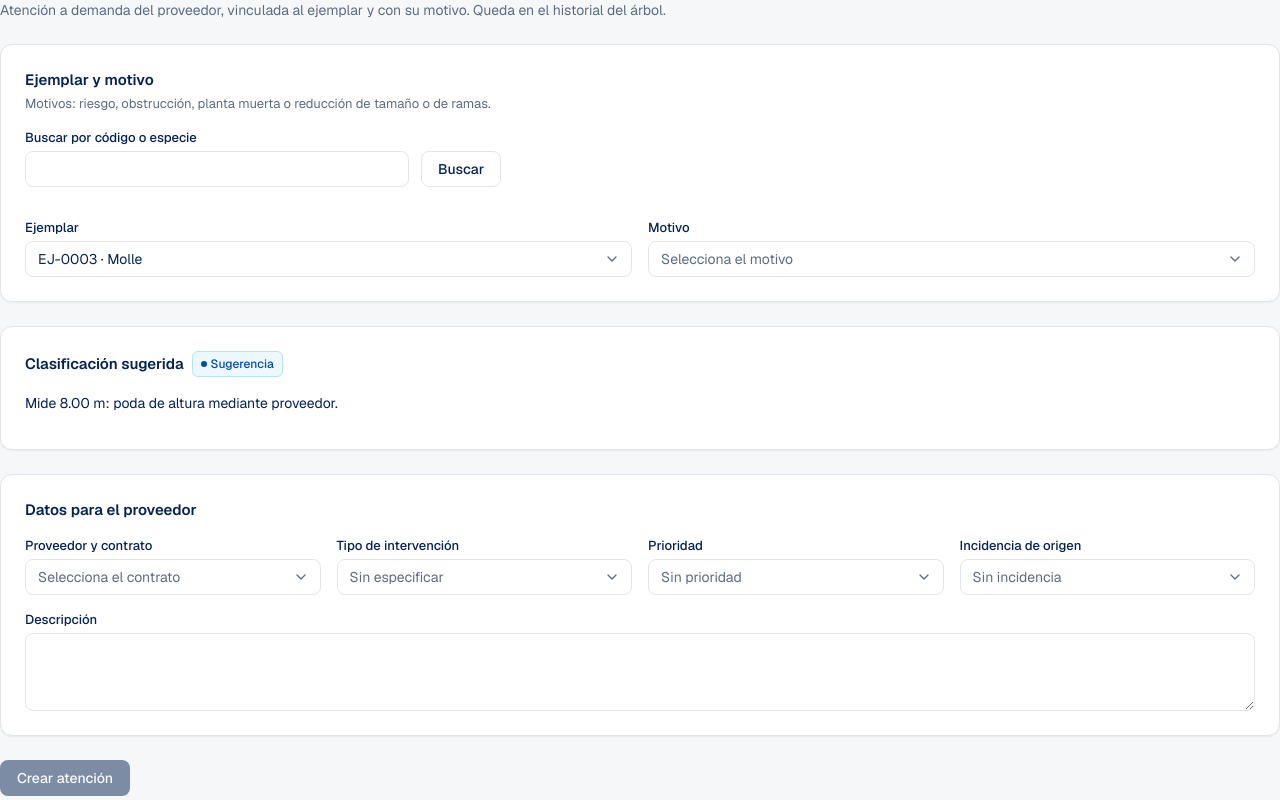
it: SolicitarPodaAlturaPage › solicita la poda de un ejemplar de 8 m con su motivo y abre la intervención
expect the text "Mide 8.00 m: poda de altura mediante proveedor." is shown: met, box top-left (25, 394), bottom-right (338, 412)
Select "Riesgo" in the dropdown with id "motivo-altura" at (952,259), box top-left (648, 241), bottom-right (1255, 277)
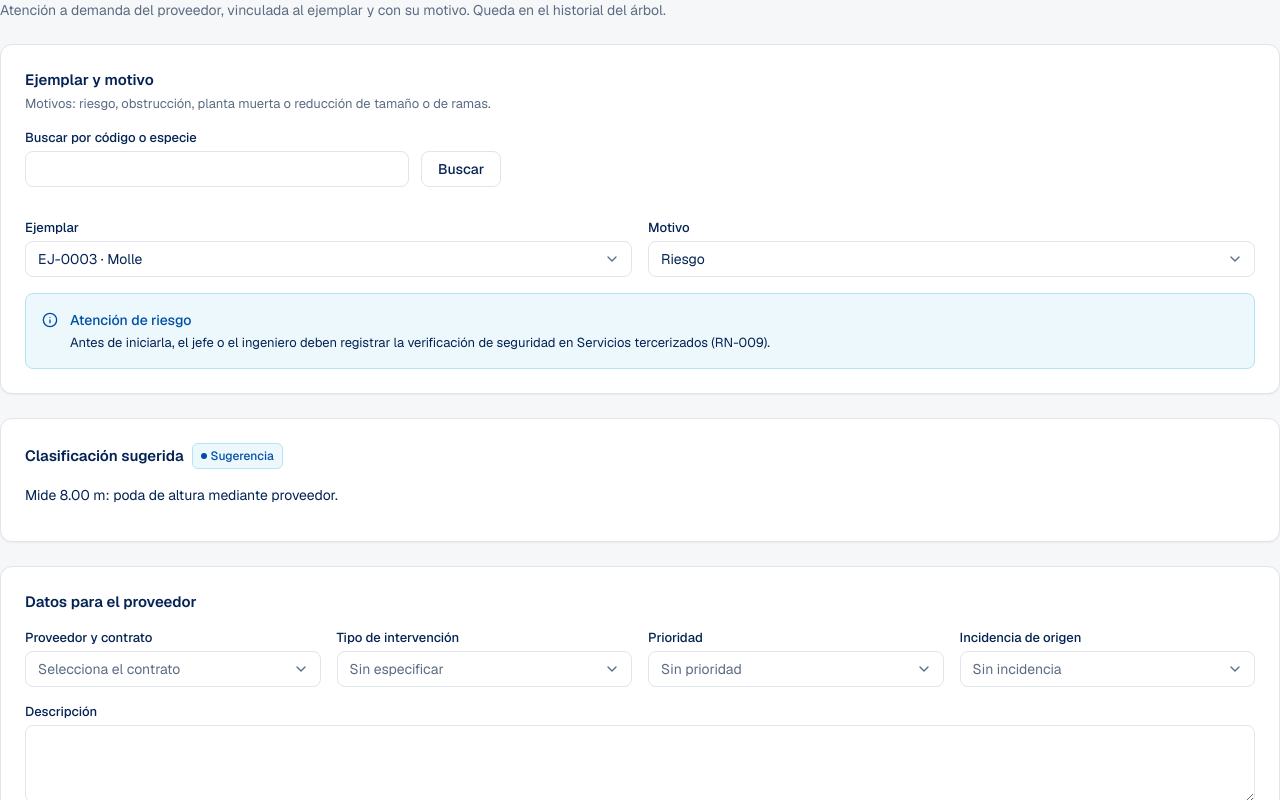
expect the text "Atención de riesgo" is shown: met, box top-left (70, 311), bottom-right (192, 329)
Select "Arbolistas del Sur · Poda de altura · C-2026-01" in the dropdown with id "contrato-altura" at (173,669), box top-left (25, 651), bottom-right (320, 687)
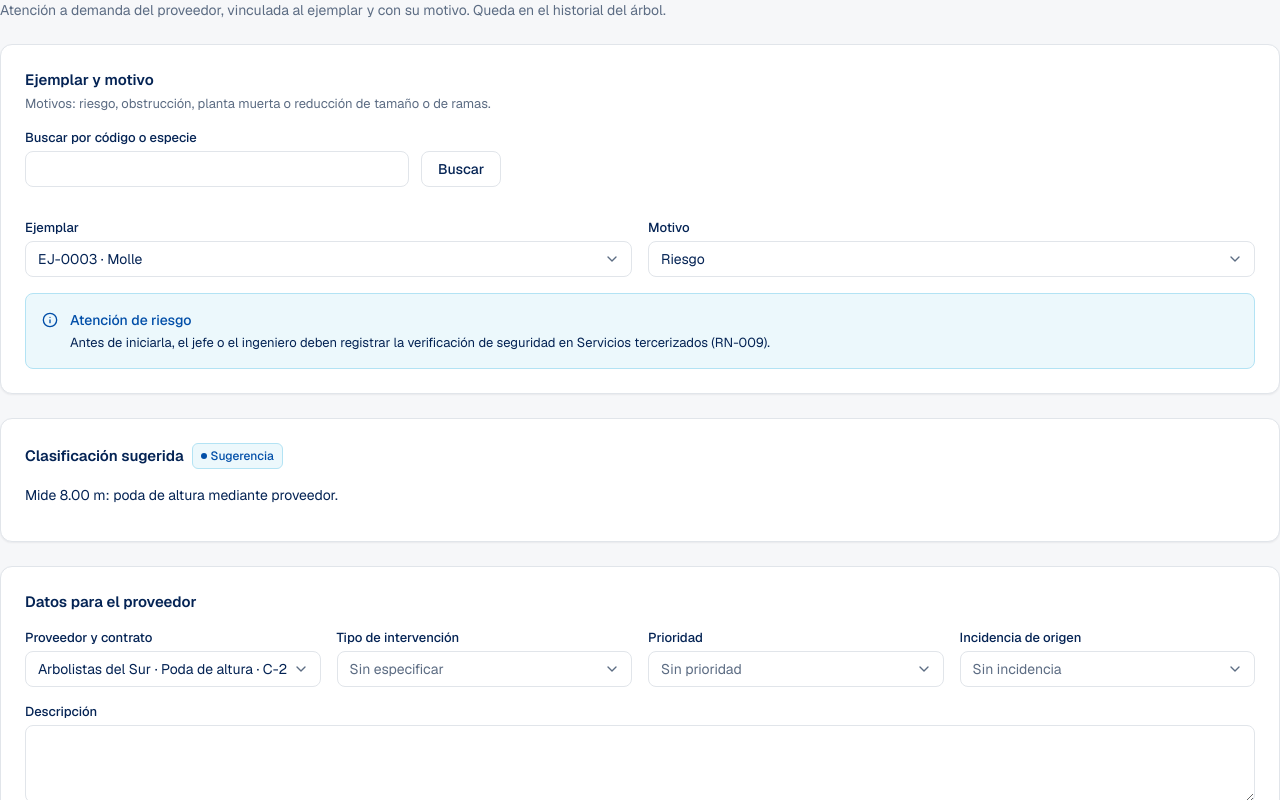
Select "Alta" in the dropdown labelled "Prioridad" at (796,669), box top-left (648, 651), bottom-right (944, 687)
(page scrolled)
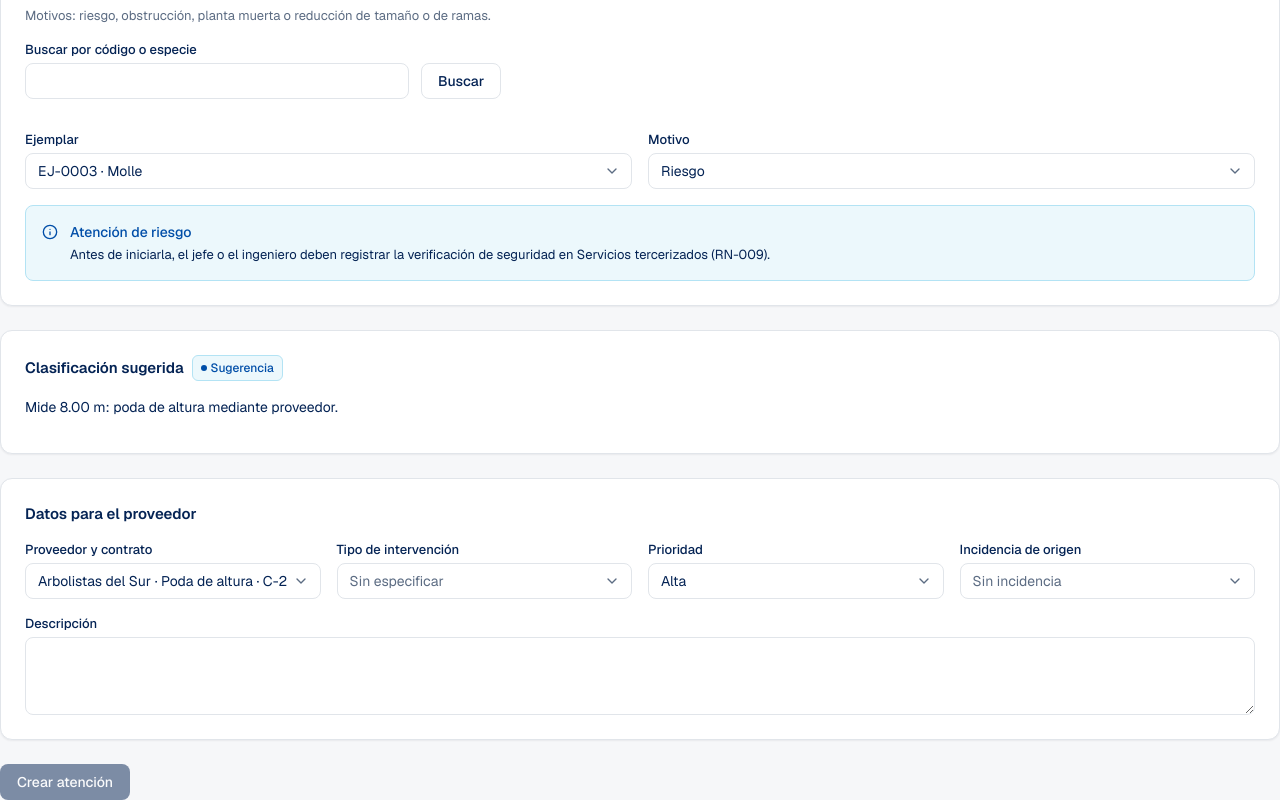
Type "Rama sobre la vereda" into the text box labelled "Descripción".
click(640, 676); type("Rama sobre la vereda")  # box top-left (25, 637), bottom-right (1255, 715)
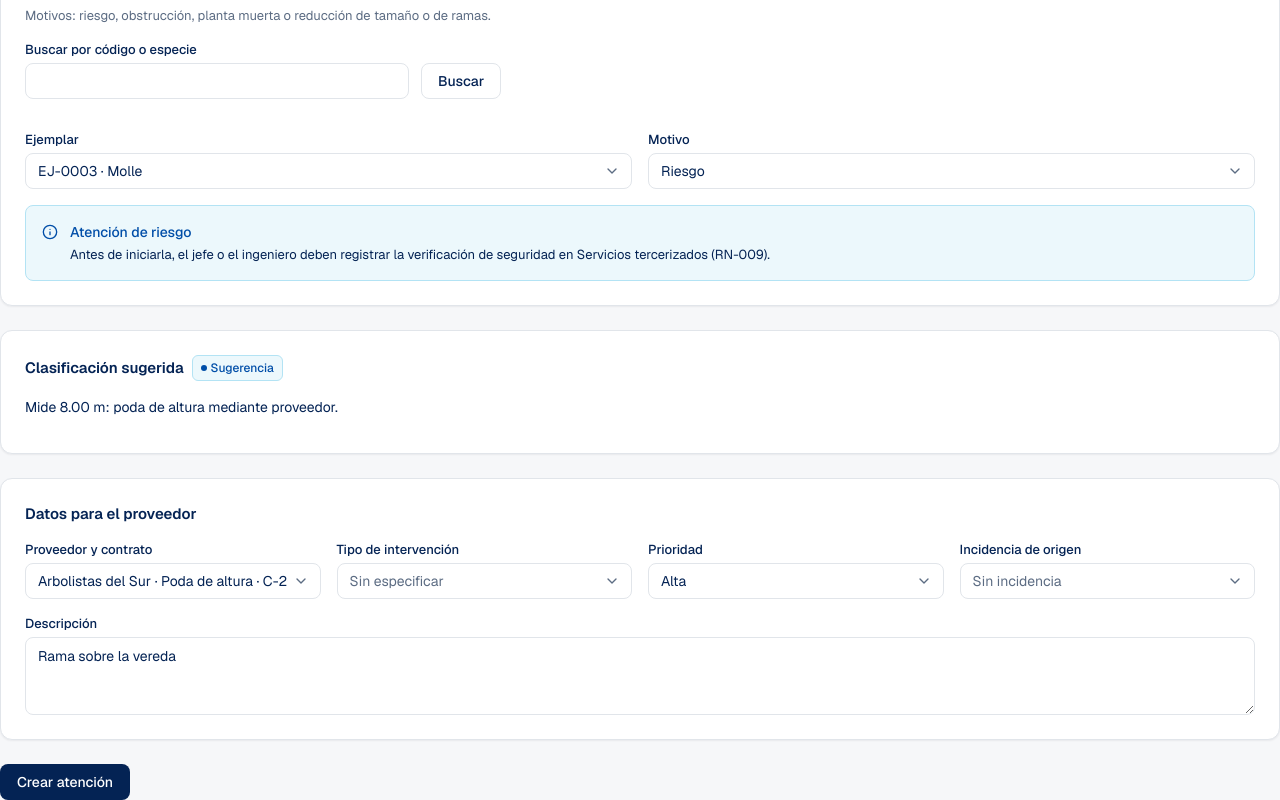
Click the button "Crear atención".
click(65, 782)  # box top-left (0, 764), bottom-right (130, 799)
(page scrolled)
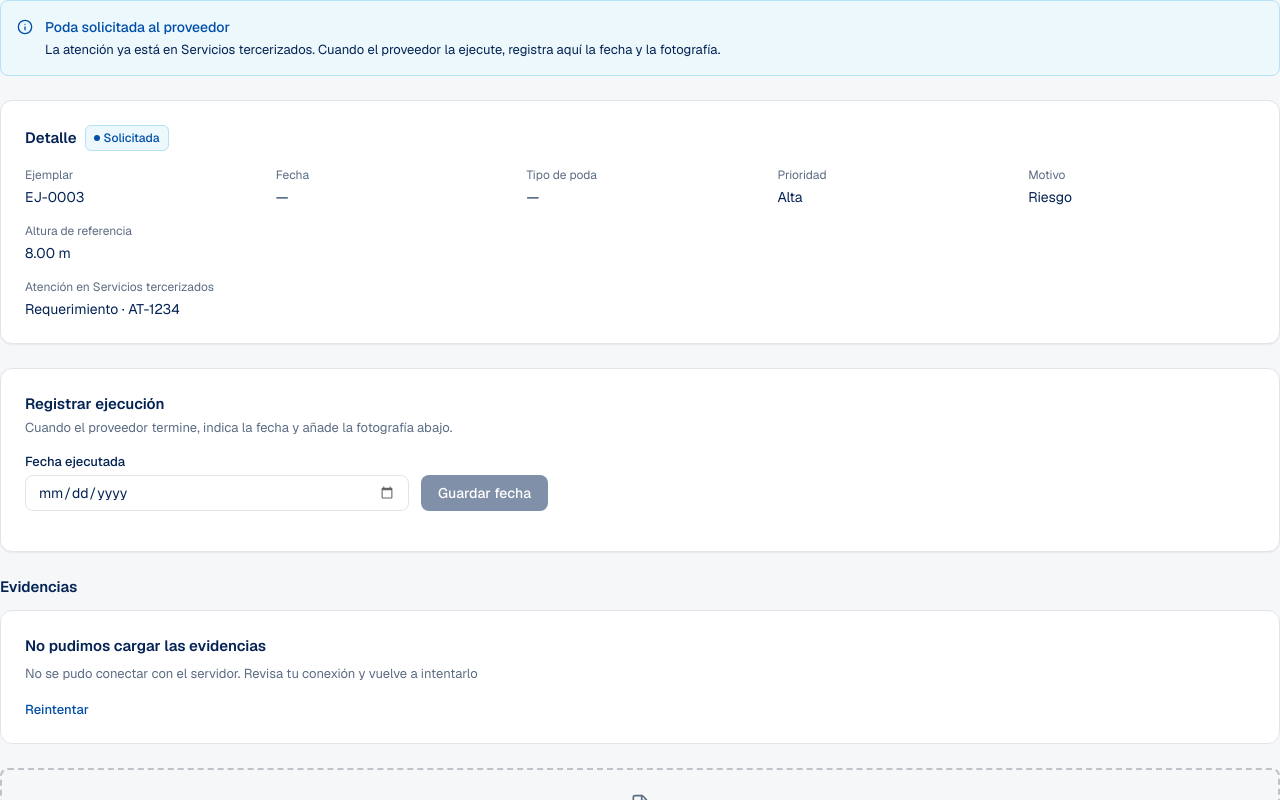
expect the text "Poda solicitada al proveedor" is shown: met, box top-left (45, 18), bottom-right (230, 36)
